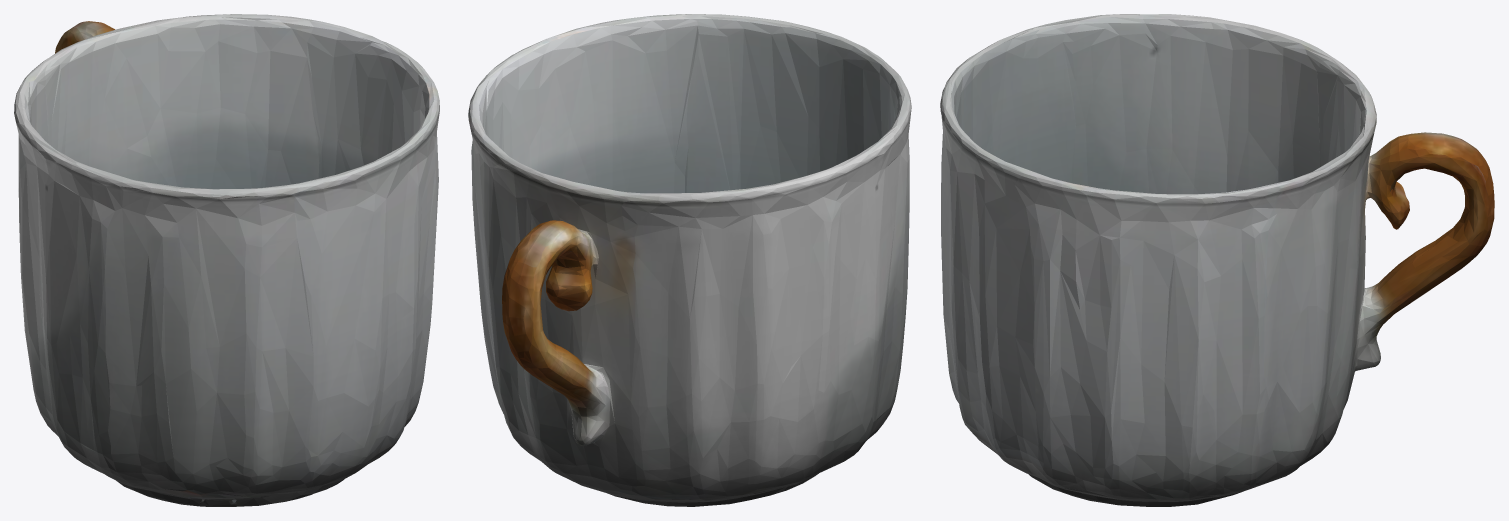
3 renders of one model, left to right at view 1: azimuth 30°, elevation 25°; view 2: azimuth 150°, elevation 25°; view 3: azimuth 270°, elevation 25°, orthographic.
Parts seen in each view (by area): view 1: geometry_0; view 2: geometry_0; view 3: geometry_0.
Boxes of the visible parts, <box> form: geometry_0: <box>14,14,439,506</box>; geometry_0: <box>468,14,911,506</box>; geometry_0: <box>940,14,1494,506</box>.
Size of the model in its own units: 0.7788 by 0.6995 by 0.9957.
1 material, 1 textured.
